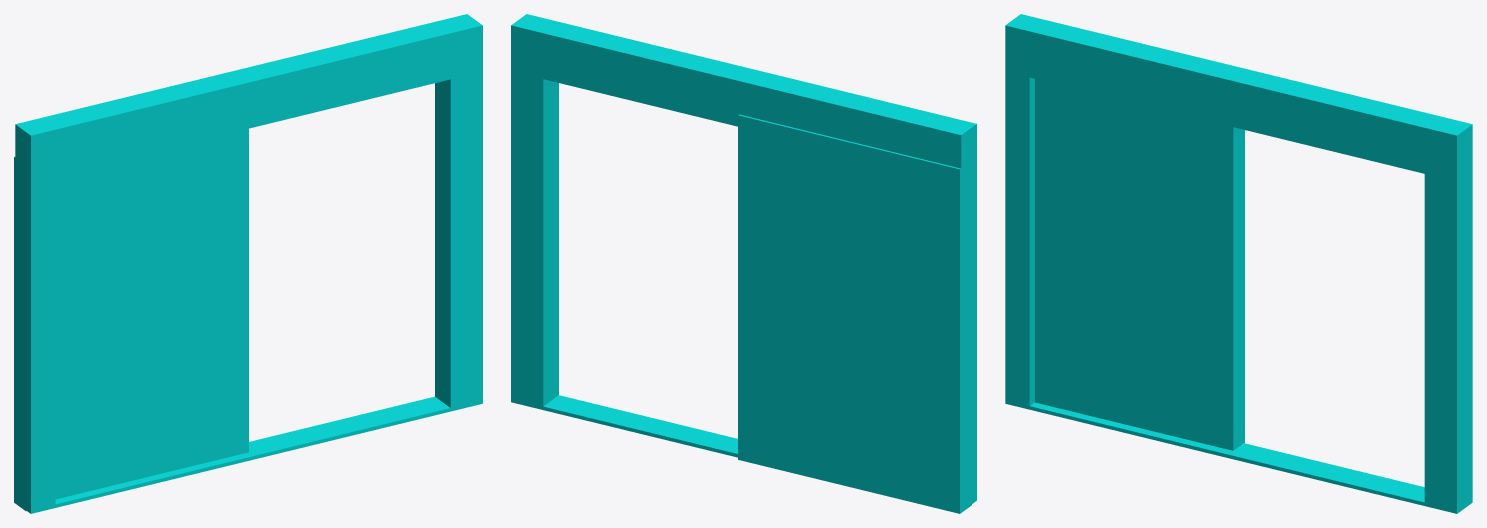
Rendered from SM_Bld_Sliding_Door_01_Collision.fbx.
3 views of the same model, side by side, from view 1: azimuth 30°, elevation 25°; view 2: azimuth 150°, elevation 25°; view 3: azimuth 330°, elevation 25° (orthographic).
Parts seen in each view (by area): view 1: SM_Bld_Sliding_Door_01_Collision; view 2: SM_Bld_Sliding_Door_01_Collision; view 3: SM_Bld_Sliding_Door_01_Collision.
Boxes of the visible parts, x1,y1,x2,y2 form: SM_Bld_Sliding_Door_01_Collision: (14, 14, 482, 513); SM_Bld_Sliding_Door_01_Collision: (511, 14, 976, 513); SM_Bld_Sliding_Door_01_Collision: (1005, 14, 1472, 513).
Bounding box in the file's own units: 375 × 301 × 24.2.
